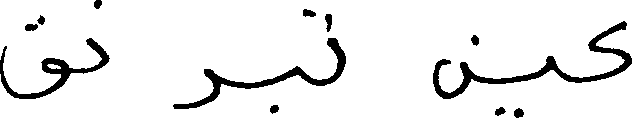ب: (268, 64, 304, 114)
ت: (302, 6, 344, 85)
ر: (173, 66, 220, 109)
ع: (590, 18, 630, 82)
ق: (0, 13, 68, 99)
ن: (432, 32, 479, 99), (86, 0, 108, 74)
ي: (494, 53, 558, 115)
